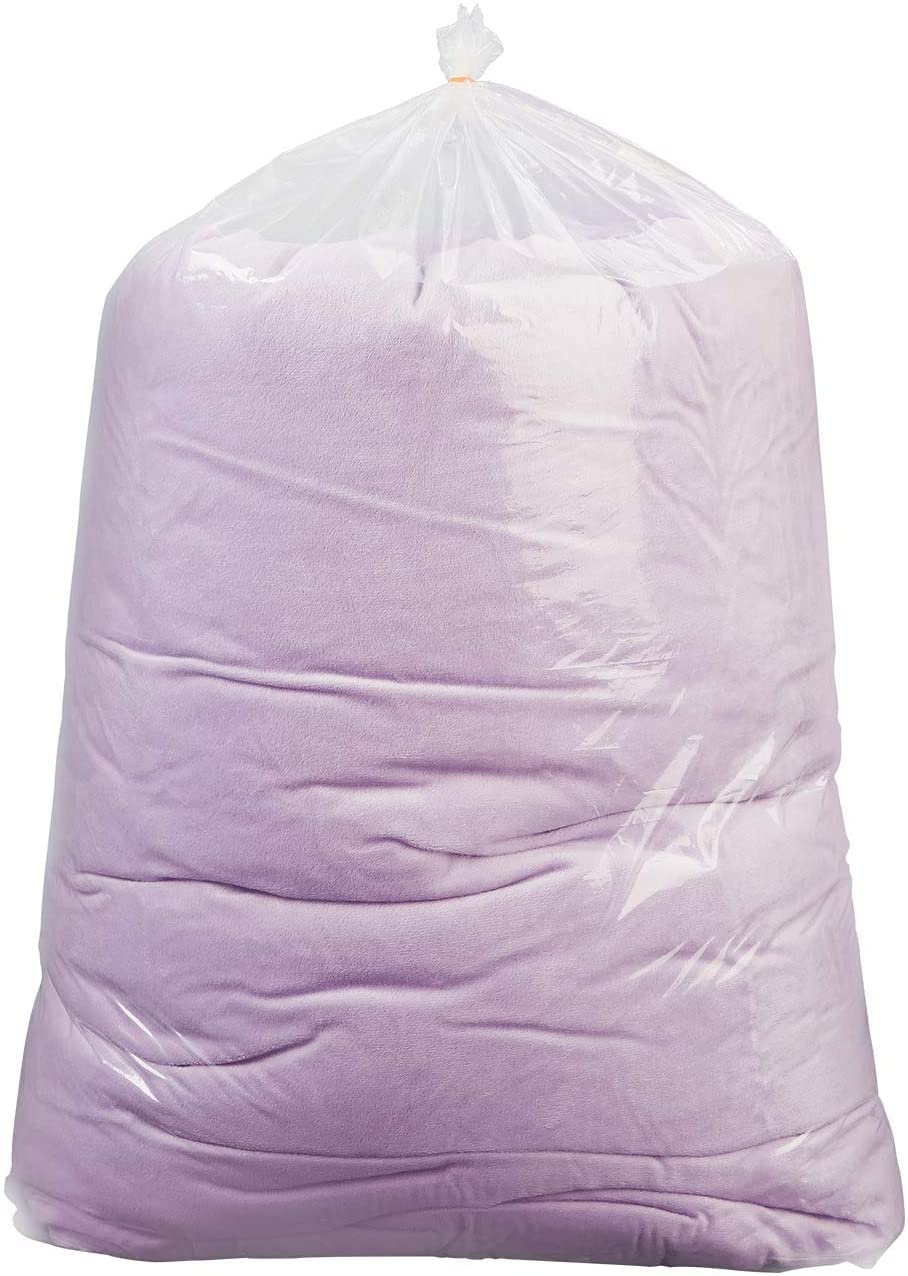PlasticBag: (27, 73, 904, 1261)
